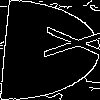X: (24, 25, 100, 61)
